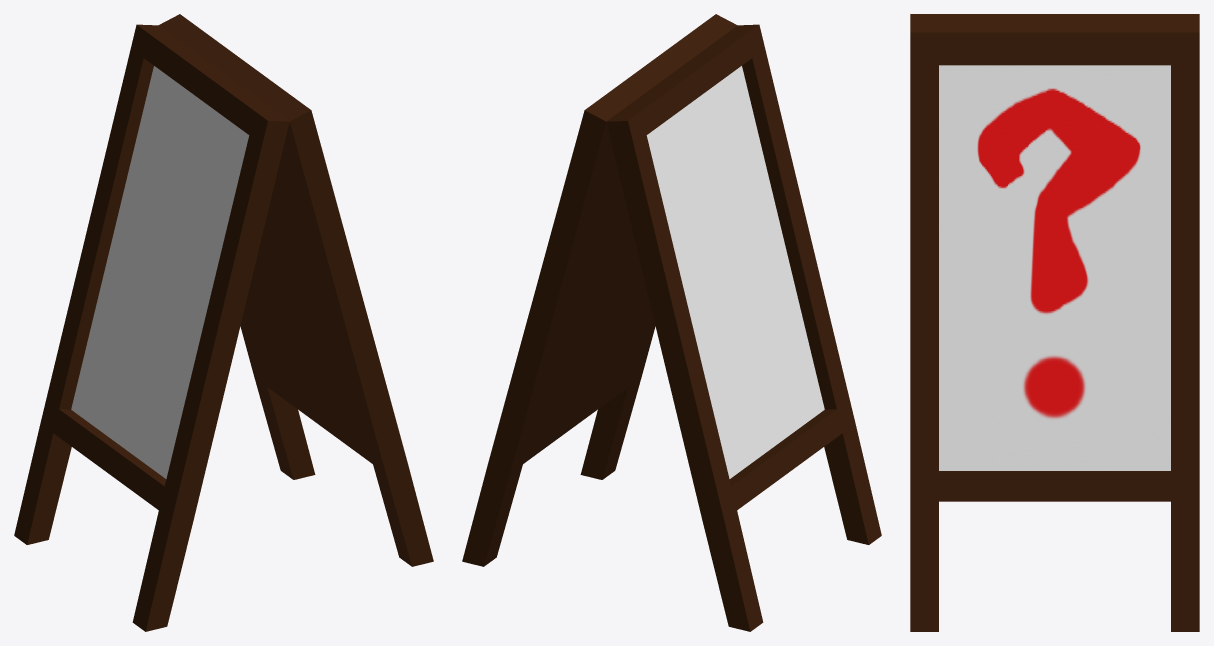
Rendered from Cartelito.fbx.
3 views of the same model, side by side, from view 1: azimuth 30°, elevation 25°; view 2: azimuth 150°, elevation 25°; view 3: azimuth 270°, elevation 25° (orthographic). The views are drawn at different scales.
Visible parts, largest first — view 1: SM_Welcome_Sign_Restourant; view 2: SM_Welcome_Sign_Restourant; view 3: SM_Welcome_Sign_Restourant.
Part boxes in pixels (left/top/right/bottom): SM_Welcome_Sign_Restourant: left=14, top=14, right=433, bottom=631; SM_Welcome_Sign_Restourant: left=462, top=14, right=881, bottom=631; SM_Welcome_Sign_Restourant: left=910, top=14, right=1199, bottom=631.
Size of the model in its own units: 65.85 by 105 by 52.
